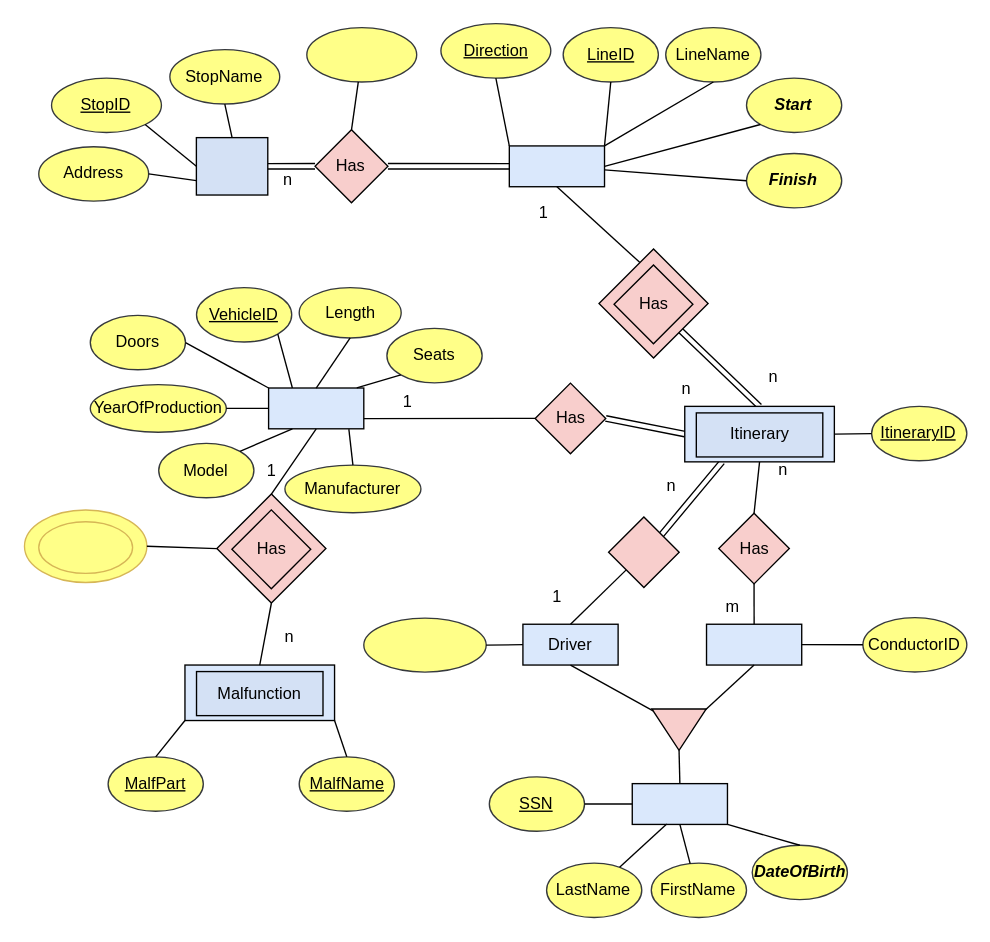
Image size: 990x942. Some labels were removed from this diagram. The centre of each missing label's shape, as x and y in pixels:
"Conductor" goes at (753,644).
"Date" goes at (85,546).
"DriversLicense" goes at (424,644).
"Drives" goes at (643,551).
"Employee" goes at (679,803).
"IS-A" goes at (678,729).
"Line" goes at (556,166).
"Order" goes at (361,54).
"Stop" goes at (231,165).
"Vehicle" goes at (315,408).
